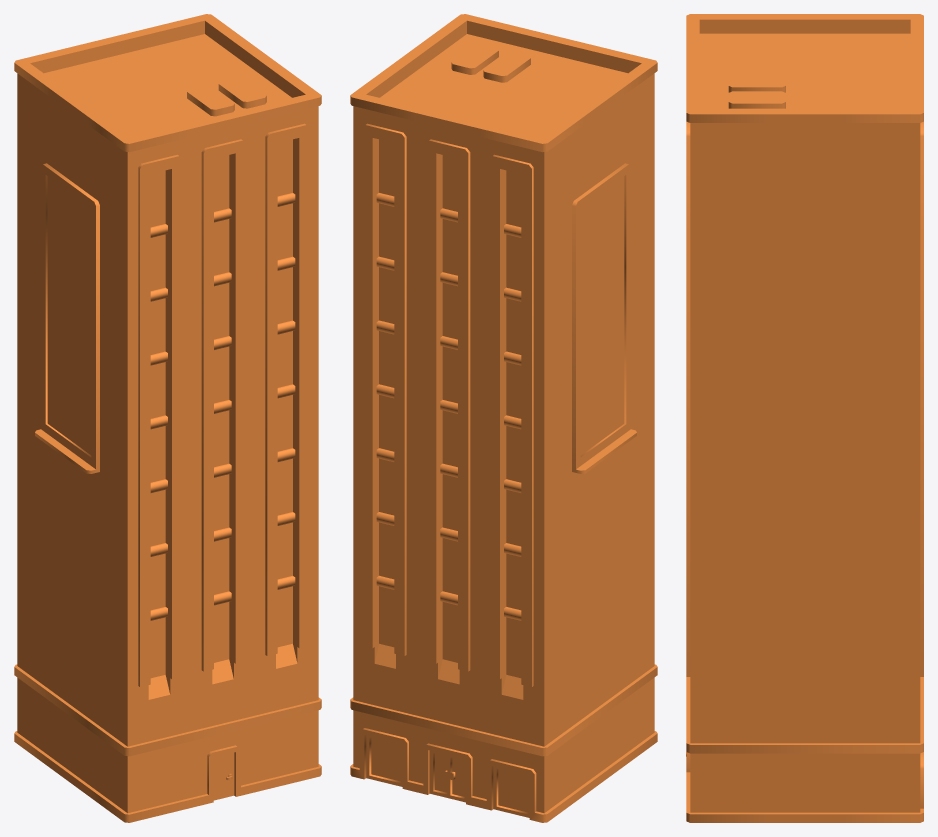
The model's file is tower.obj.
The picture shows the model from 3 angles, left to right: view 1: azimuth 30°, elevation 25°; view 2: azimuth 150°, elevation 25°; view 3: azimuth 270°, elevation 25°; orthographic projection. The views are drawn at different scales.
Parts seen in each view (by area): view 1: building-skyscraper-e; view 2: building-skyscraper-e; view 3: building-skyscraper-e.
Part boxes in pixels (<box>): building-skyscraper-e: <box>14,14,321,822</box>; building-skyscraper-e: <box>350,14,657,822</box>; building-skyscraper-e: <box>686,14,923,822</box>.
Size of the model in its own units: 1.29 by 4.08 by 1.24.
